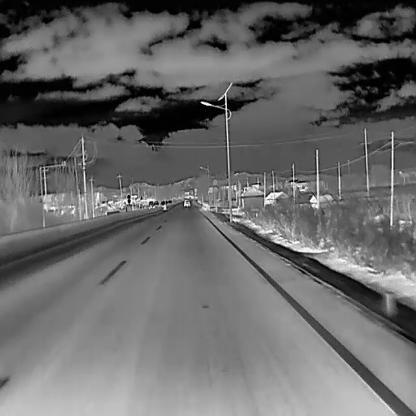car: (183, 198, 191, 206), (148, 200, 154, 209), (160, 200, 166, 207), (154, 200, 159, 208)
